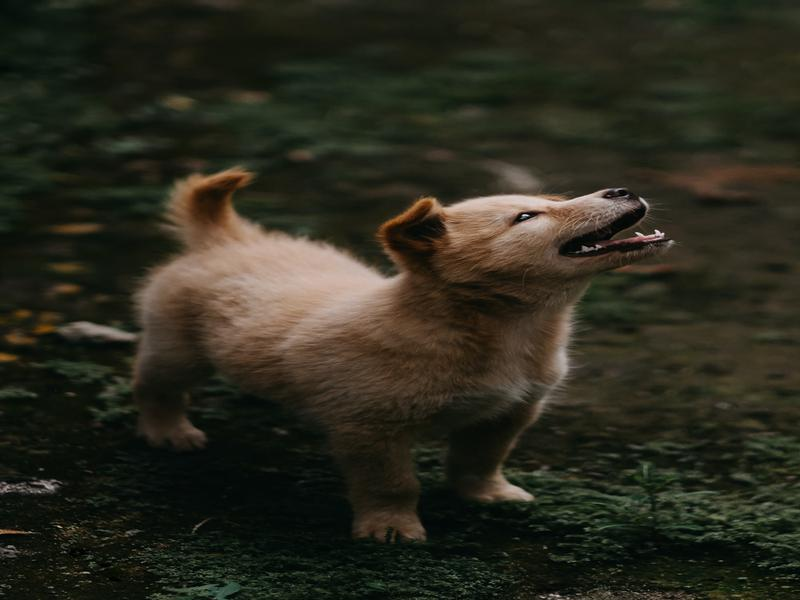dog_stand: (118, 155, 682, 552)
